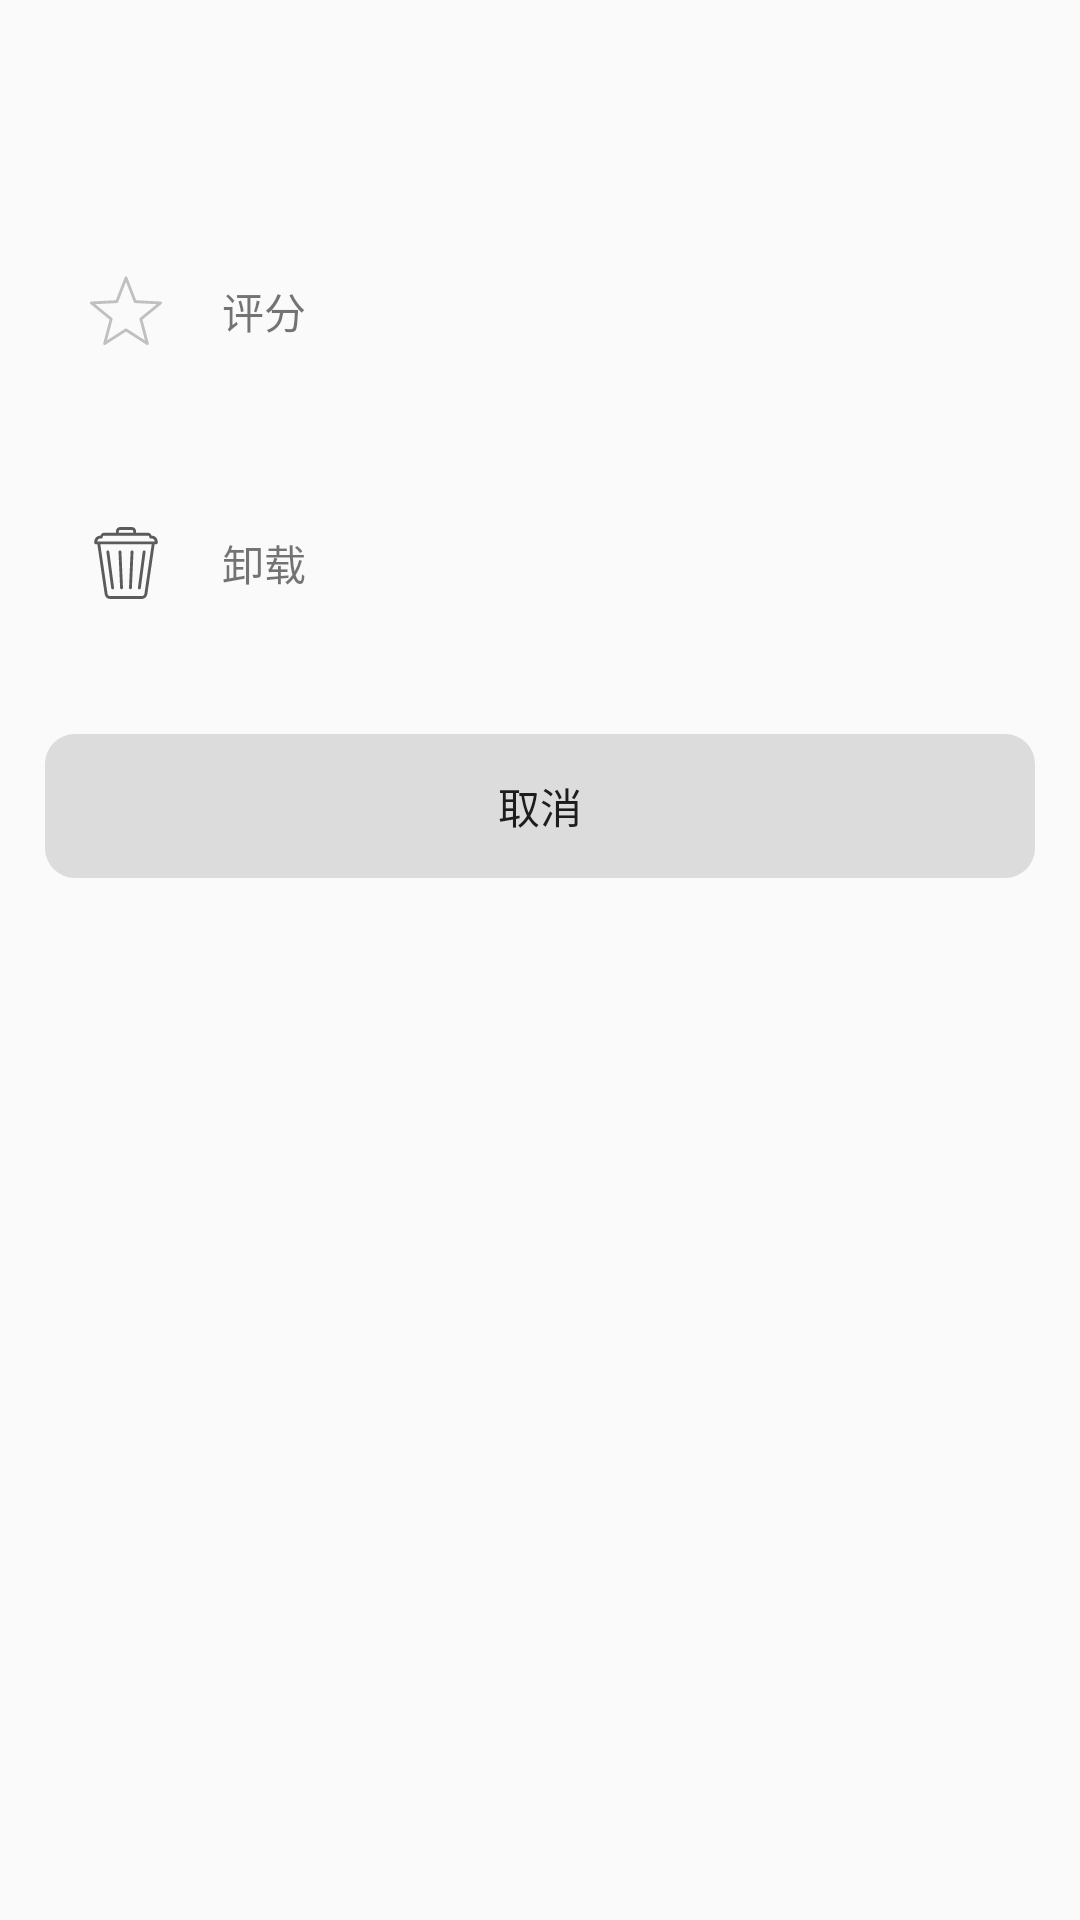

Where icons sit on this 1080×1920 app screen, as (x1, y1, x2, y2):
left more rubbish: (94, 527, 158, 599)
star collect: (90, 276, 162, 345)
